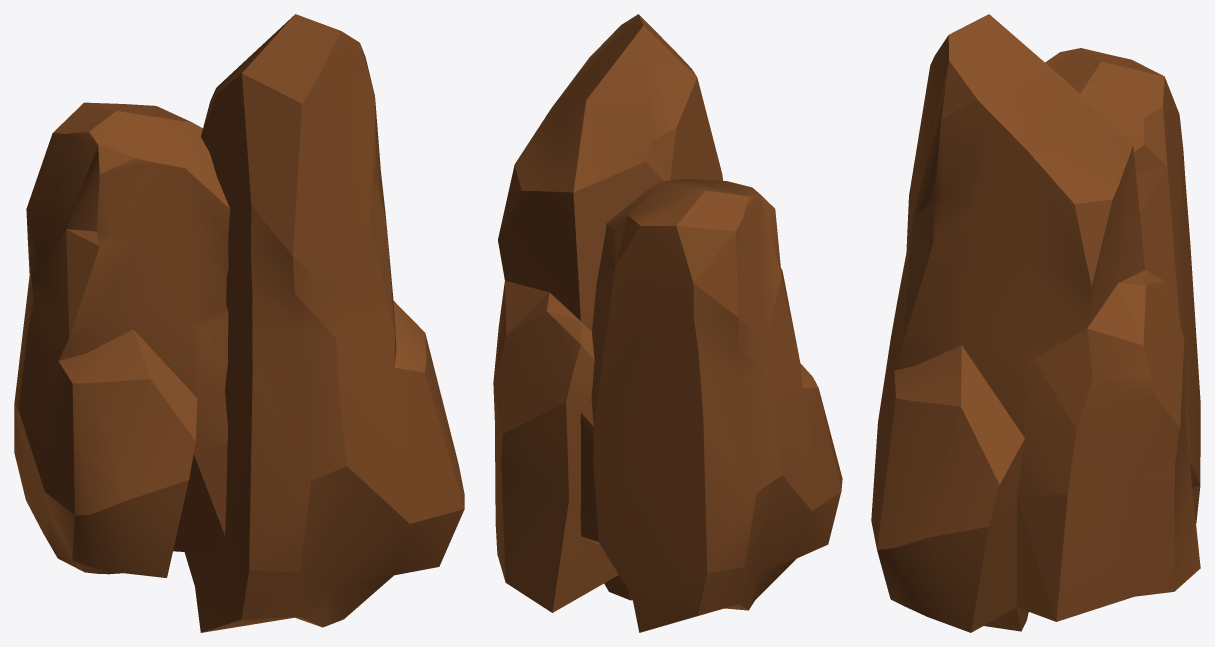
Rendered from Rock_4_Cube.obj.
The picture shows the model from 3 angles, left to right: view 1: azimuth 30°, elevation 25°; view 2: azimuth 150°, elevation 25°; view 3: azimuth 270°, elevation 25°; orthographic projection. The views are drawn at different scales.
Visible parts, largest first — view 1: Rock_4_Cube.025; view 2: Rock_4_Cube.025; view 3: Rock_4_Cube.025.
Part boxes in pixels (box(x1,y1,x2,y2)): Rock_4_Cube.025: box(14, 14, 464, 632); Rock_4_Cube.025: box(493, 14, 842, 632); Rock_4_Cube.025: box(871, 14, 1200, 632).
Size of the model in its own units: 2.16 by 3.46 by 1.7.
